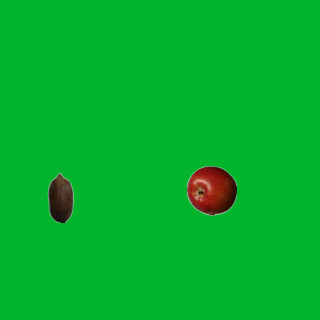Apple Braeburn: (186, 165, 236, 215)
Nut Pecan: (35, 172, 85, 222)
